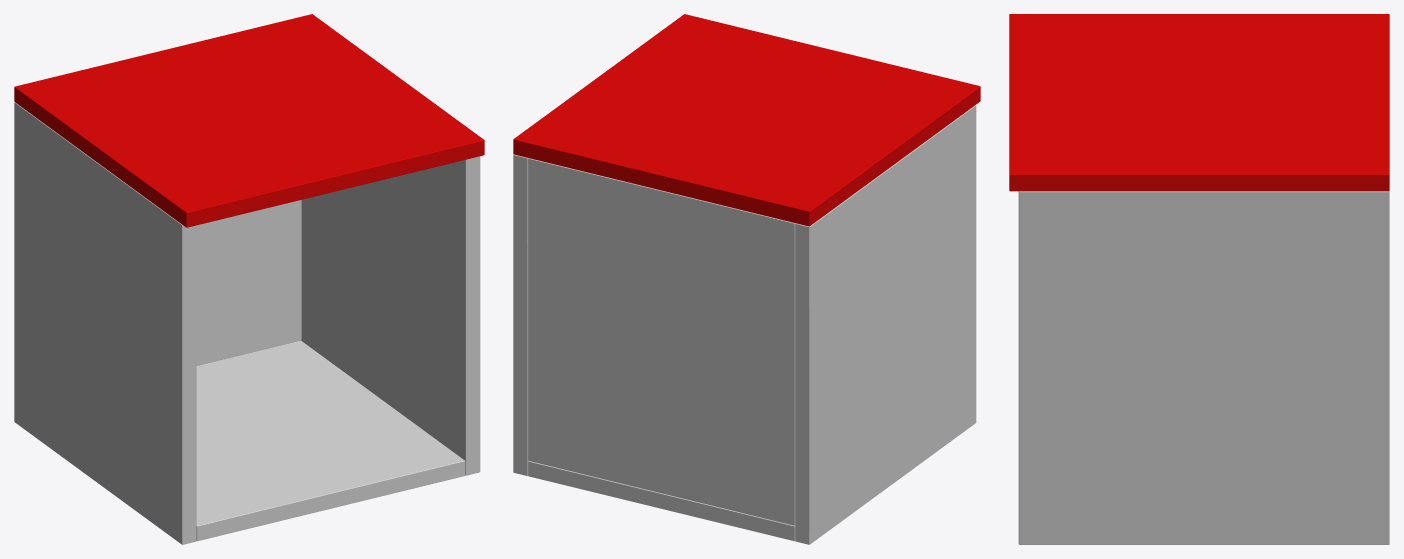
File: UnderBench01_WithoutWheels.fbx
3 renders of one model, left to right at view 1: azimuth 30°, elevation 25°; view 2: azimuth 150°, elevation 25°; view 3: azimuth 270°, elevation 25°, orthographic. The views are drawn at different scales.
Visible parts, largest first — view 1: UnderBench01; view 2: UnderBench01; view 3: UnderBench01.
Part boxes in pixels (x1,y1,x2,y2): UnderBench01: (14, 14, 484, 544); UnderBench01: (513, 14, 980, 544); UnderBench01: (1009, 14, 1389, 544).
Size of the model in its own units: 50 by 53.75 by 50.
